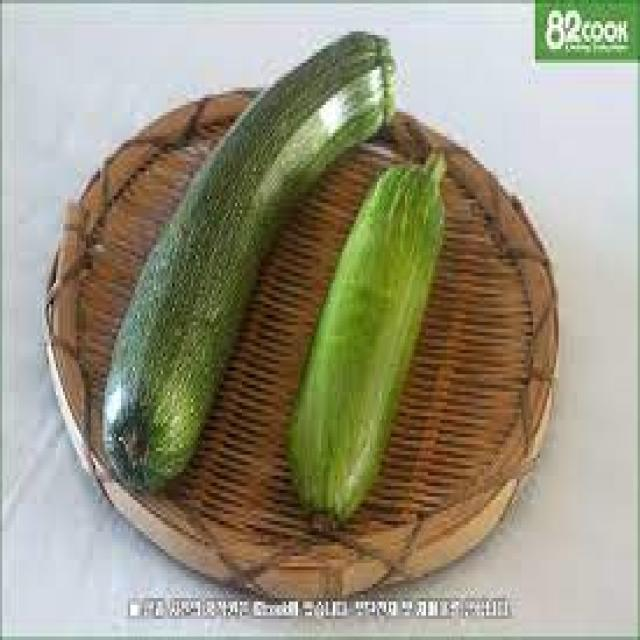zucchini: (289, 154, 447, 523)
